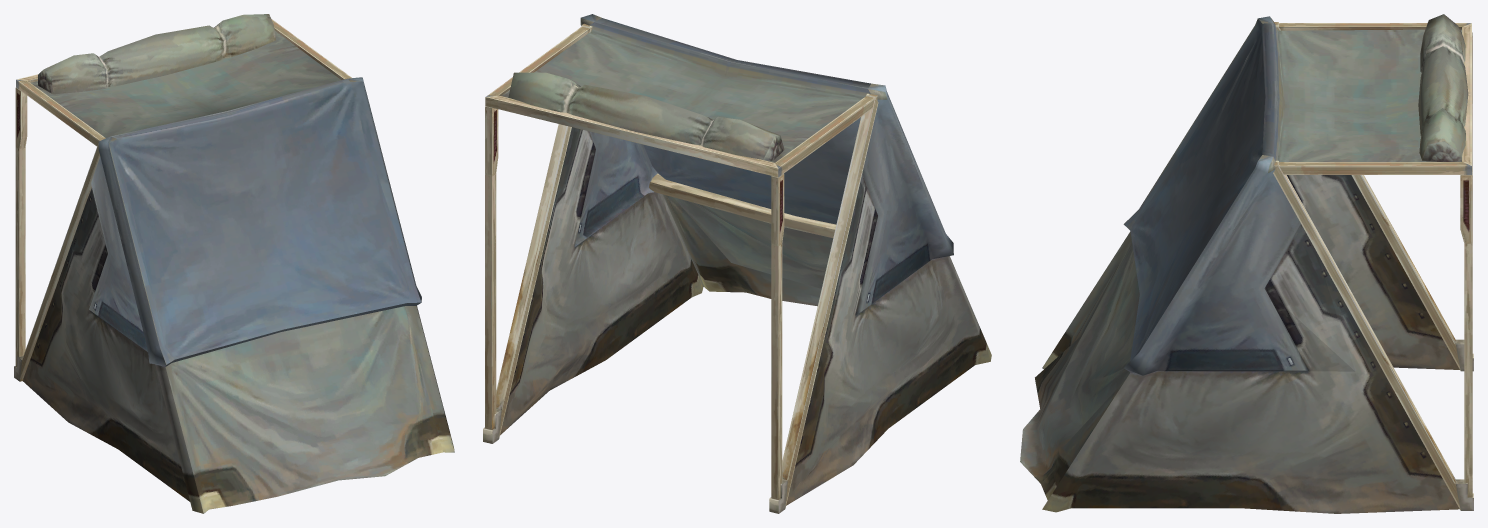
The model's file is all_arch_neu_tent_leanto.glb.
3 renders of one model, left to right at view 1: azimuth 30°, elevation 25°; view 2: azimuth 150°, elevation 25°; view 3: azimuth 270°, elevation 25°, orthographic. The views are drawn at different scales.
Visible parts, largest first — view 1: all_arch_neu_tent_leanto; view 2: all_arch_neu_tent_leanto; view 3: all_arch_neu_tent_leanto.
Boxes of the visible parts, x1=… form: all_arch_neu_tent_leanto: x1=14, y1=14, x2=454, y2=513; all_arch_neu_tent_leanto: x1=483, y1=14, x2=991, y2=513; all_arch_neu_tent_leanto: x1=1020, y1=14, x2=1473, y2=513.
Size of the model in its own units: 0.4365 by 0.494 by 0.5453.
Materials: 1 (1 with a texture image).
